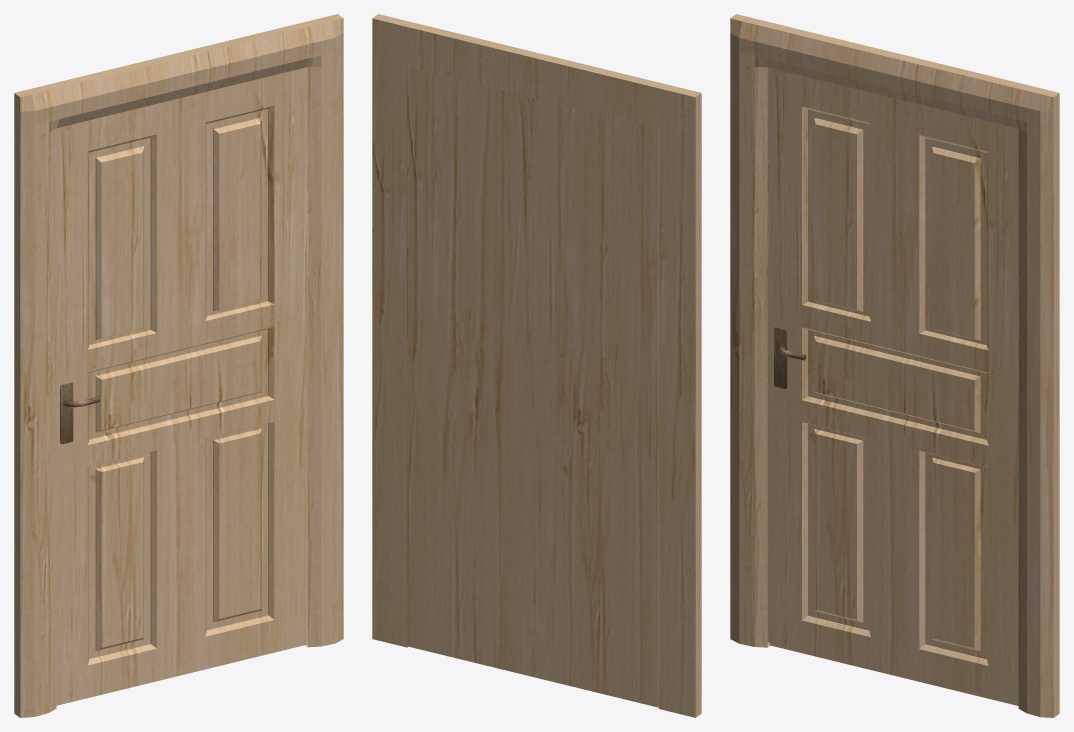
File: Lvl1_door.fbx
3 renders of one model, left to right at view 1: azimuth 30°, elevation 25°; view 2: azimuth 150°, elevation 25°; view 3: azimuth 330°, elevation 25°, orthographic.
Parts seen in each view (by area): view 1: door, frame, handle plate; view 2: door, frame; view 3: door, frame, handle plate.
Boxes of the visible parts, <box> form: door: <box>56,67,306,705</box>; frame: <box>14,14,343,717</box>; handle plate: <box>60,382,73,444</box>; door: <box>407,67,658,707</box>; frame: <box>372,14,701,717</box>; door: <box>769,68,1018,705</box>; frame: <box>730,14,1059,717</box>; handle plate: <box>774,327,787,388</box>.
Size of the model in its own units: 10.92 by 20.02 by 0.5688.
2 materials, 2 textured.
